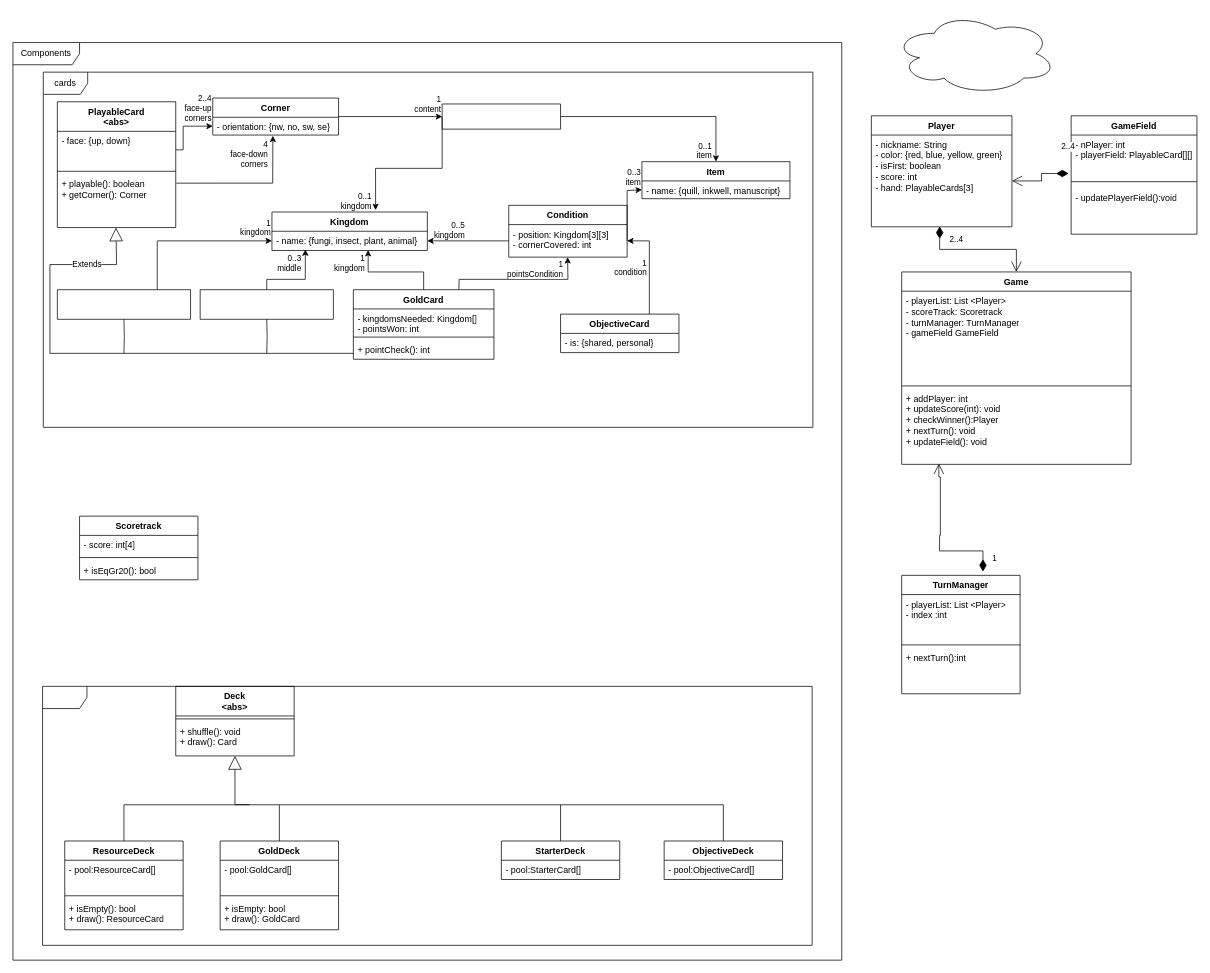
Some shapes in this 1210 by 973 pixel diagram are drawn without their labels. The centre of each missing label's shape, as x and y in pixels:
decks: (427,815)
Everything has a proper getter method!: (974,53)
Icon: (501,116)
ResourceCard: (124,304)
StarterCard: (266,304)
